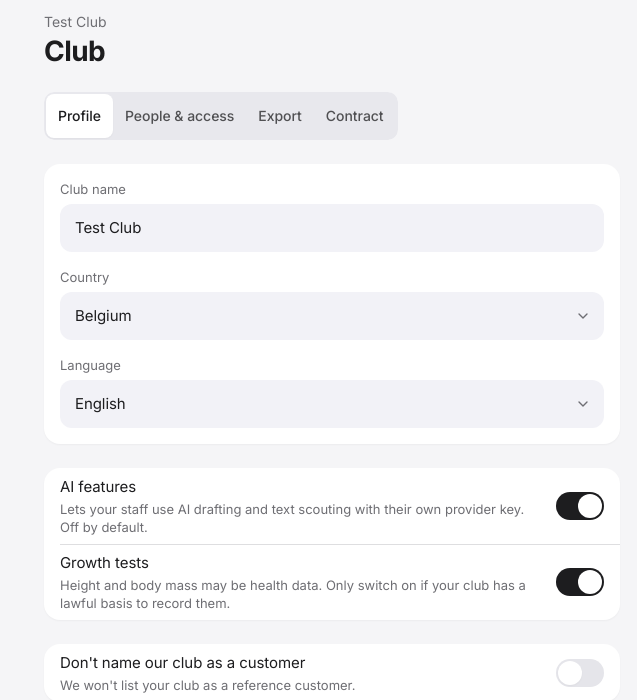
ClubAreaPage › choosing a tab replaces ?tab= without a new history entry
Click the tab "Contract" at (355, 116), box left=314, top=94, right=396, bottom=138
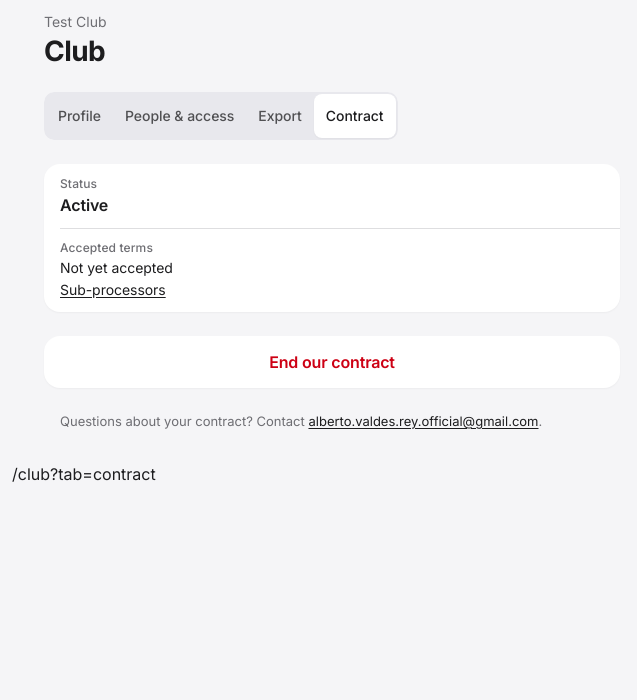
Result: the text with test id "where" reads "/club?tab=contract" at left=12, top=464, right=156, bottom=484
